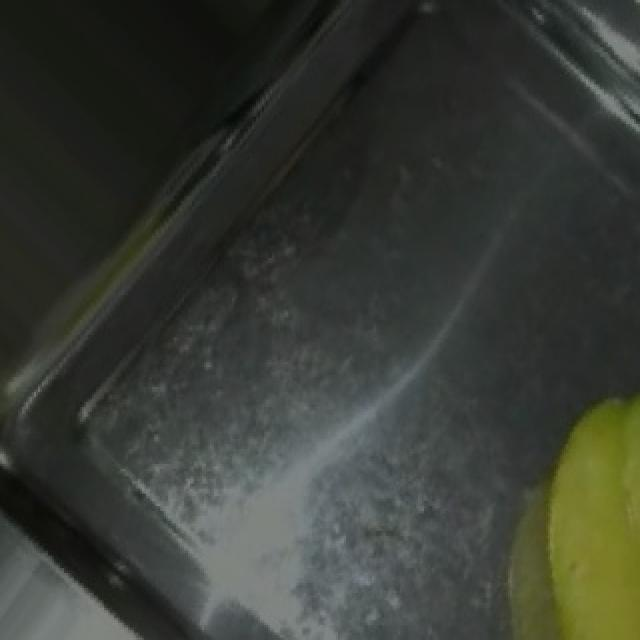fruit: (486, 354, 640, 640)
